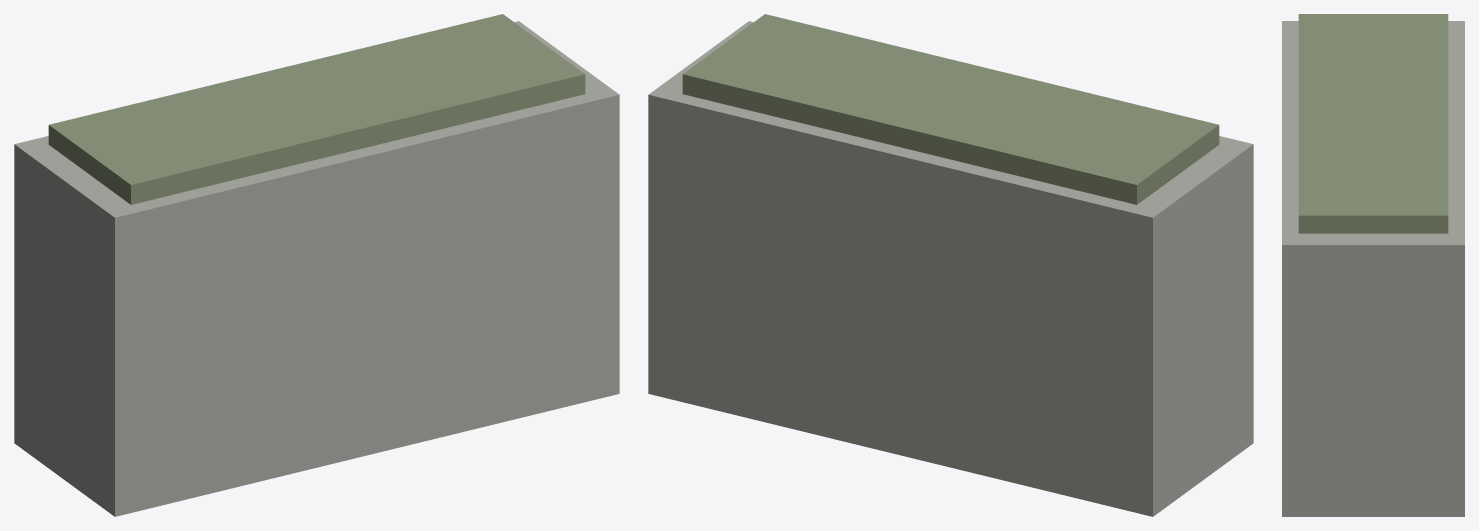
Rendered from iz2_district_market_crate_stack.glb.
3 views of the same model, side by side, from view 1: azimuth 30°, elevation 25°; view 2: azimuth 150°, elevation 25°; view 3: azimuth 270°, elevation 25° (orthographic). The views are drawn at different scales.
Visible parts, largest first — view 1: body; view 2: body; view 3: body.
Boxes of the visible parts, left/top/right/bottom form: body: left=14, top=14, right=619, bottom=516; body: left=648, top=14, right=1253, bottom=516; body: left=1282, top=14, right=1464, bottom=516.
Bounding box in the file's own units: 1.55 × 0.9384 × 0.5362.
